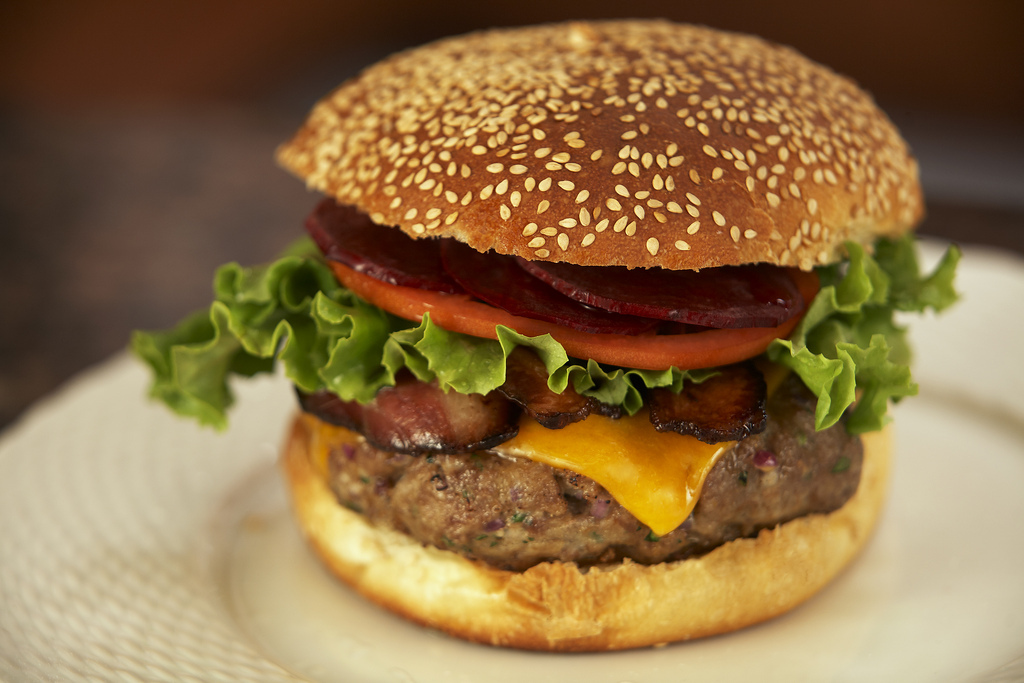Hamburger: (122, 16, 965, 648)
